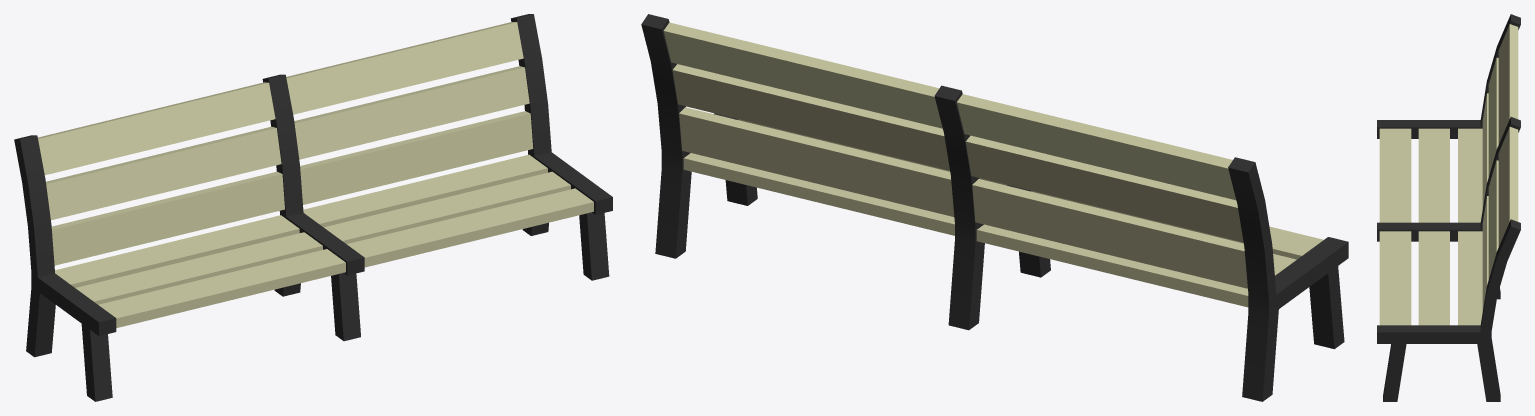
Rendered from bench.fbx.
3 views of the same model, side by side, from view 1: azimuth 30°, elevation 25°; view 2: azimuth 150°, elevation 25°; view 3: azimuth 270°, elevation 25° (orthographic). The views are drawn at different scales.
Parts seen in each view (by area): view 1: Cube.028, Cube.027, Cube.029, Plane.042, Cube.026, Cube.025, Cube.024, Plane.043; view 2: Cube.027, Cube.028, Cube.029, Plane.042, Cube.025, Plane.043, Cube.026; view 3: Plane.042, Cube.026, Cube.024, Cube.025, Cube.029, Cube.028, Plane.043, Cube.027.
Boxes of the visible parts, x1=… form: Cube.028: x1=46, y1=66, x2=529, y2=220; Cube.027: x1=51, y1=111, x2=533, y2=265; Cube.029: x1=38, y1=22, x2=523, y2=175; Plane.042: x1=14, y1=14, x2=612, y2=401; Cube.026: x1=98, y1=188, x2=593, y2=327; Cube.025: x1=55, y1=154, x2=547, y2=287; Cube.024: x1=75, y1=171, x2=570, y2=304; Plane.043: x1=262, y1=74, x2=364, y2=341; Cube.027: x1=679, y1=107, x2=1247, y2=288; Cube.028: x1=672, y1=64, x2=1243, y2=242; Cube.029: x1=663, y1=22, x2=1236, y2=200; Plane.042: x1=641, y1=14, x2=1348, y2=401; Cube.025: x1=683, y1=153, x2=1248, y2=307; Plane.043: x1=934, y1=85, x2=1050, y2=330; Cube.026: x1=738, y1=119, x2=1323, y2=259; Plane.042: x1=1377, y1=14, x2=1520, y2=401; Cube.026: x1=1379, y1=128, x2=1411, y2=325; Cube.024: x1=1418, y1=128, x2=1449, y2=325; Cube.025: x1=1458, y1=128, x2=1482, y2=325; Cube.029: x1=1498, y1=24, x2=1518, y2=246; Cube.028: x1=1488, y1=57, x2=1498, y2=279; Plane.043: x1=1377, y1=117, x2=1520, y2=299; Cube.027: x1=1482, y1=93, x2=1488, y2=311.
Bounding box in the file's own units: 301 × 116 × 86.17.
